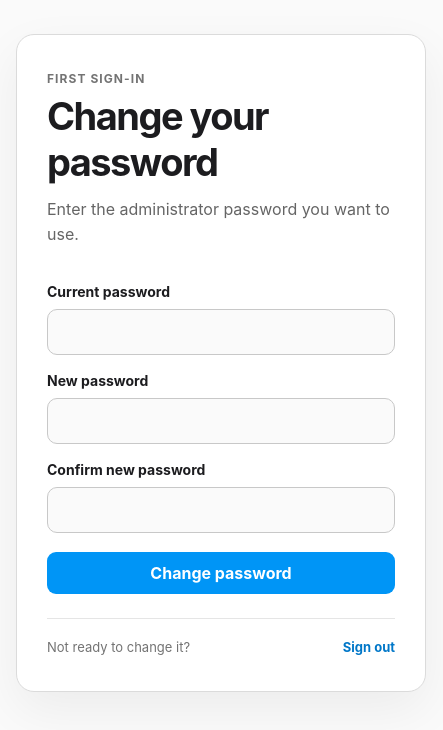
ChangePasswordPage › validates password confirmation before sending credentials
Type "old-password" into the password field labelled "Current password" at (221, 332), box [47,309,395,355]
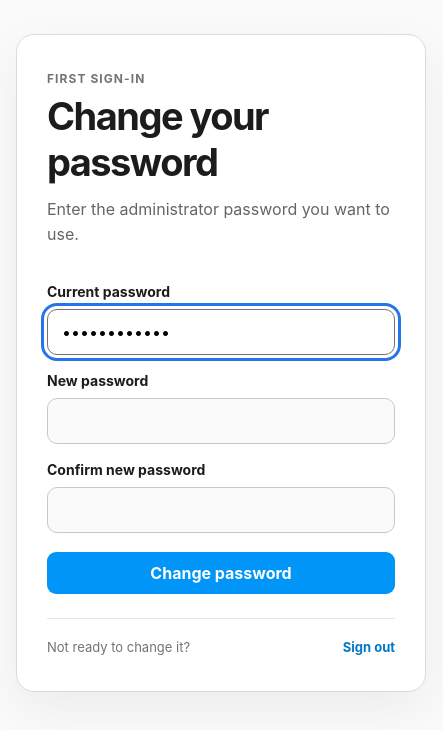
Type "different-long-owner-password" into the password field labelled "New password" at (221, 421), box [47,398,395,444]
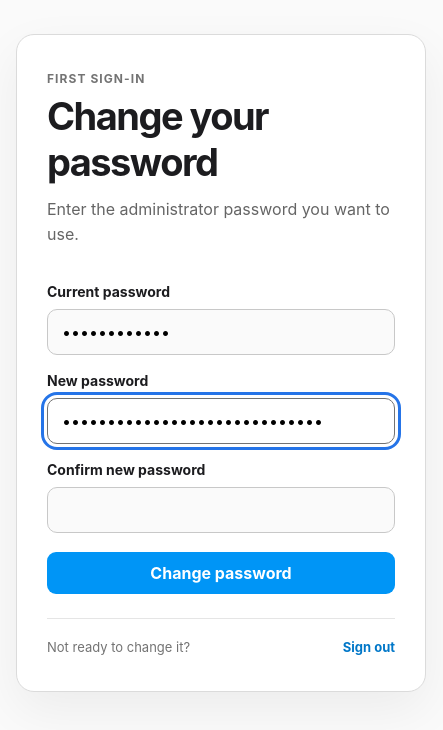
Type "not-the-same-password" into the password field labelled "Confirm new password" at (221, 510), box [47,487,395,533]
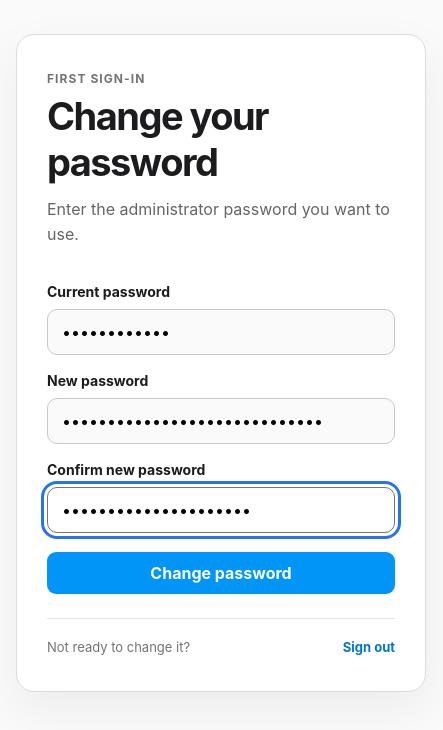
Click the button "Change password" at (221, 573), box [47,552,395,594]
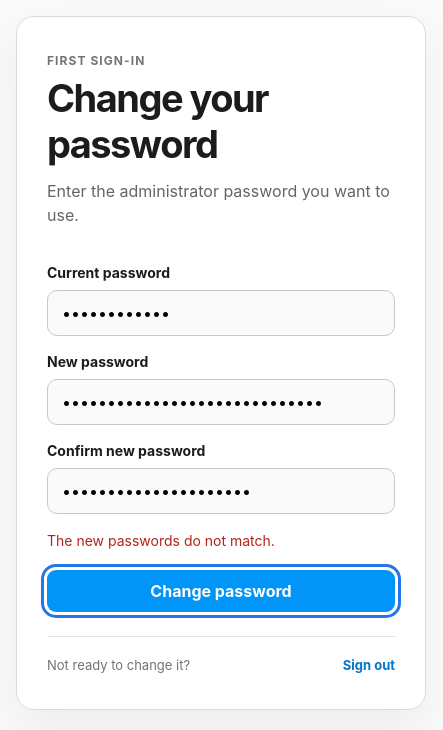
Check: the text "The new passwords do not match." is shown, box [47,532,275,549]
